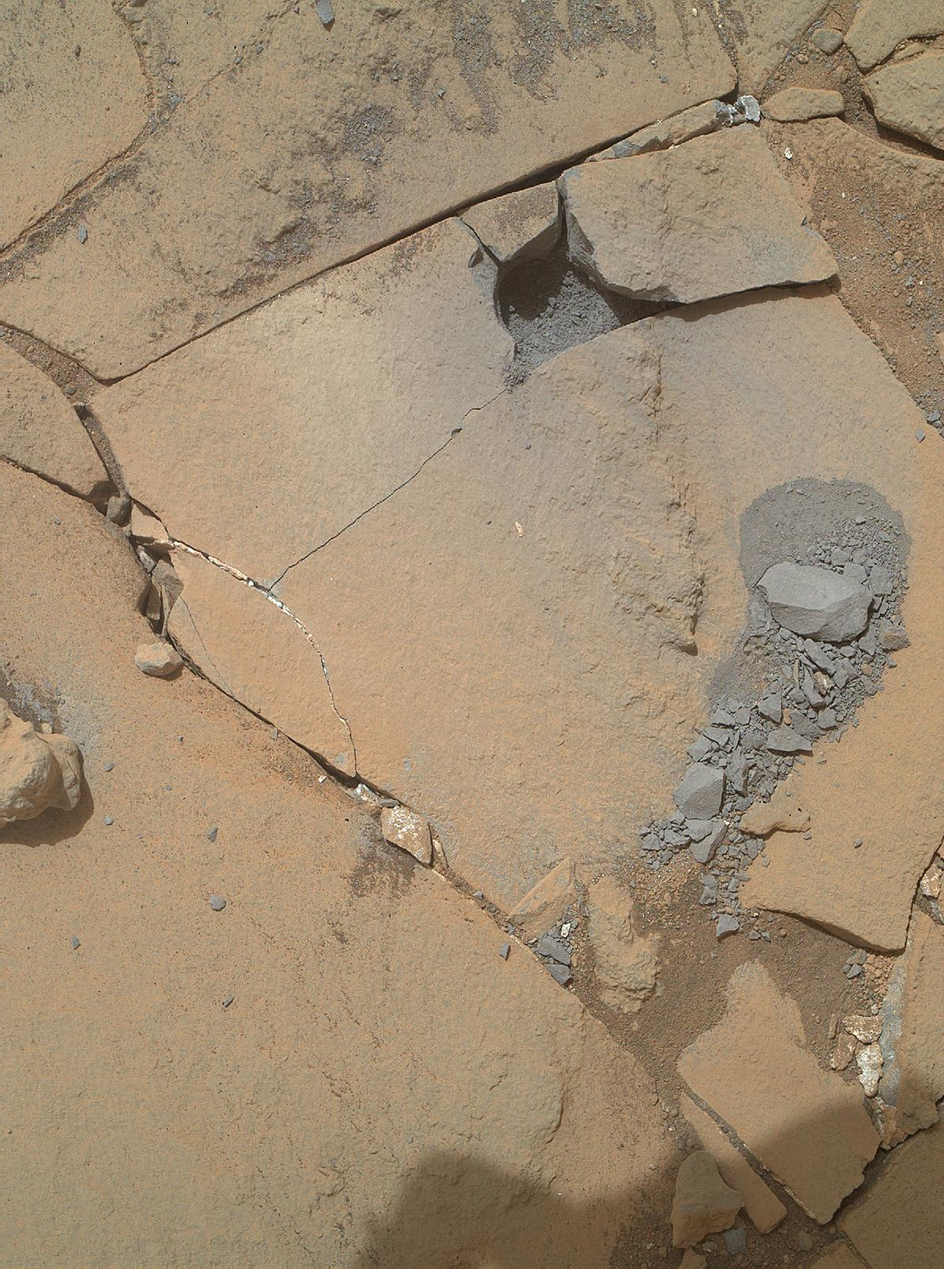rock: (0, 420, 181, 651), (0, 649, 122, 847), (289, 737, 421, 839), (748, 908, 908, 984), (468, 805, 563, 903), (528, 904, 579, 993), (352, 816, 423, 871), (0, 752, 48, 809), (912, 852, 944, 922), (134, 654, 205, 681), (421, 811, 461, 858), (125, 1238, 174, 1266), (576, 881, 599, 937), (606, 831, 635, 872), (212, 1230, 239, 1265)
